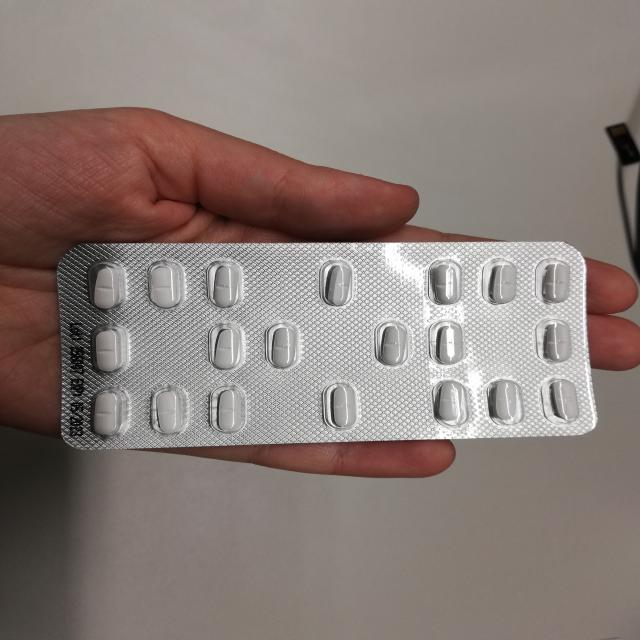Pill: (78, 384, 137, 442), (137, 260, 193, 315), (144, 382, 197, 440), (202, 258, 254, 314), (413, 256, 468, 308), (428, 374, 476, 433), (261, 322, 311, 377), (80, 260, 130, 315), (368, 317, 418, 371), (85, 324, 134, 379), (424, 317, 474, 368), (541, 371, 587, 426), (313, 257, 357, 314), (205, 383, 252, 436), (531, 253, 576, 308), (537, 314, 578, 368), (324, 382, 365, 436), (484, 371, 520, 429), (485, 256, 522, 310), (210, 319, 244, 375)
